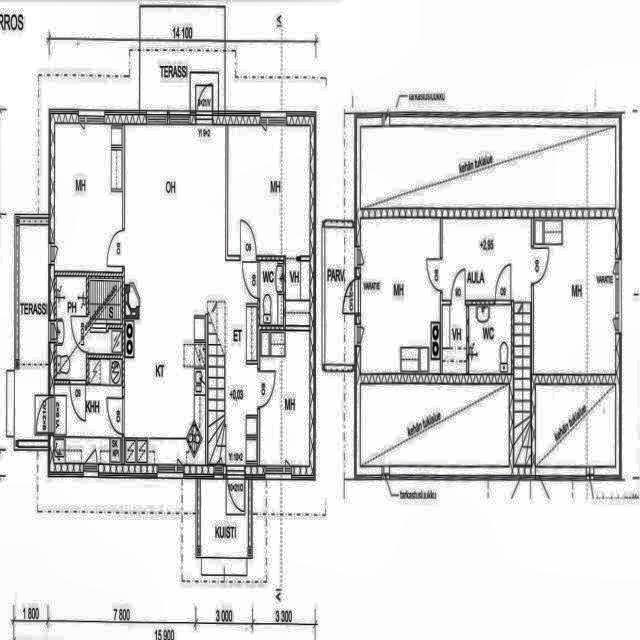room: (360, 126, 616, 209), (534, 219, 615, 373), (360, 384, 509, 466), (361, 220, 440, 373), (228, 126, 310, 255), (55, 124, 122, 271), (443, 220, 531, 301), (54, 360, 122, 463), (535, 384, 616, 467), (260, 332, 309, 465), (325, 229, 354, 364), (57, 277, 86, 379), (469, 306, 511, 372), (443, 306, 466, 372)
